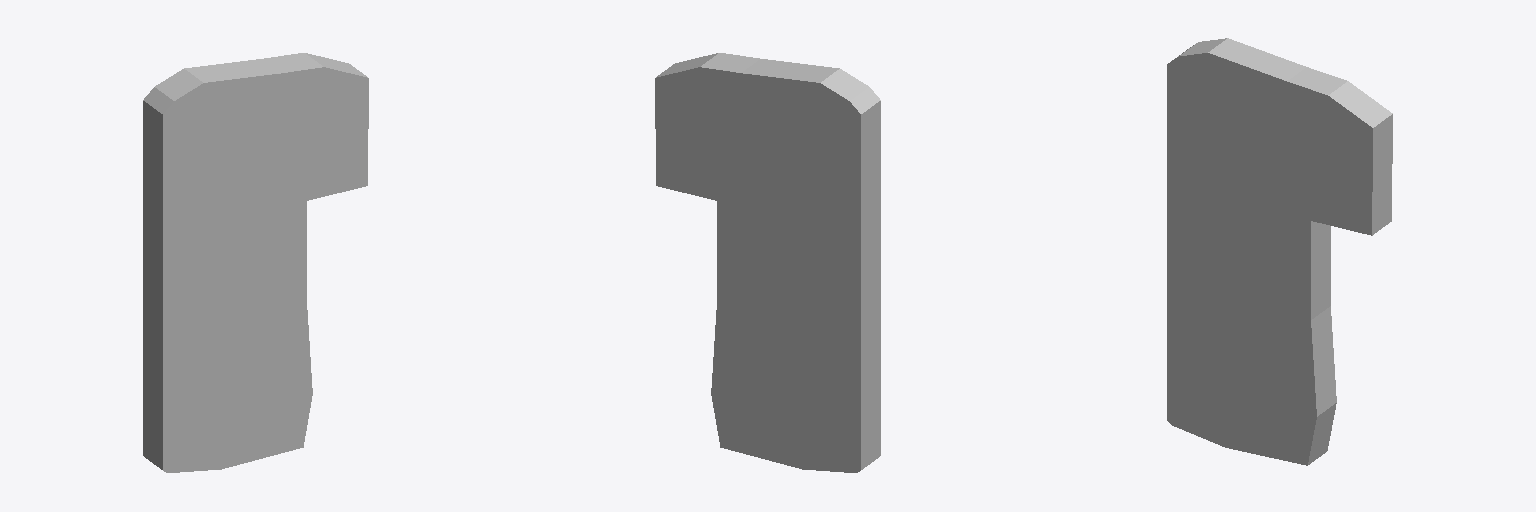
File: number1.obj
3 renders of one model, left to right at view 1: azimuth 30°, elevation 25°; view 2: azimuth 150°, elevation 25°; view 3: azimuth 330°, elevation 25°, orthographic.
Visible parts, largest first — view 1: 1; view 2: 1; view 3: 1.
Boxes of the visible parts, <box> form: 1: <box>143,53,368,472</box>; 1: <box>655,53,880,472</box>; 1: <box>1167,38,1392,465</box>.
Size of the model in its own units: 1.2 by 2.17 by 0.2.